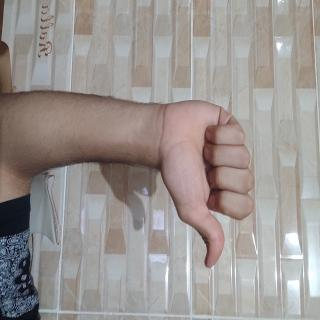DAD: (69, 82, 204, 232)
